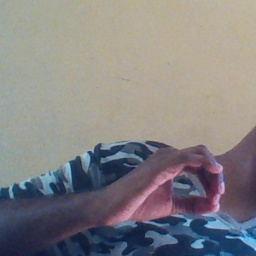O: (108, 138, 230, 238)
